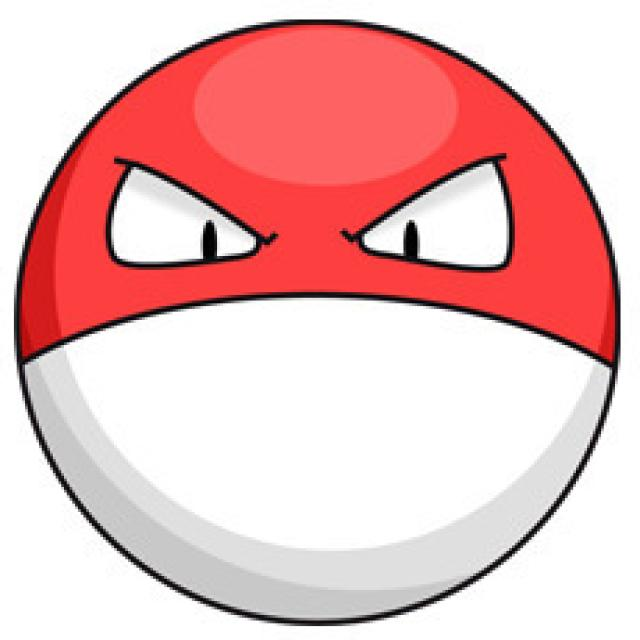Voltorb: (18, 23, 616, 622)
